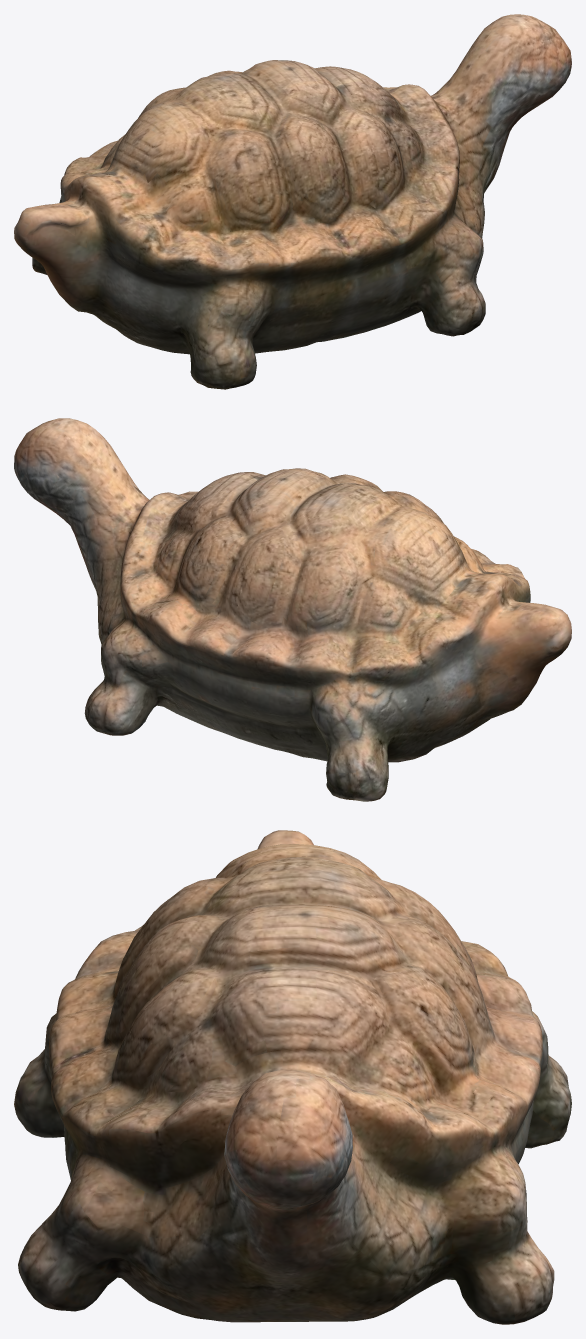
Rendered from turtle_garden_statue_841a39dd.fbx.
3 views of the same model, one above another, from view 1: azimuth 30°, elevation 25°; view 2: azimuth 150°, elevation 25°; view 3: azimuth 270°, elevation 25° (orthographic). The views are drawn at different scales.
Visible parts, largest first — view 1: turtle_garden_statue_841a39dd; view 2: turtle_garden_statue_841a39dd; view 3: turtle_garden_statue_841a39dd.
Boxes of the visible parts, x1,y1,x2,y2 form: turtle_garden_statue_841a39dd: (14, 14, 571, 389); turtle_garden_statue_841a39dd: (14, 418, 571, 801); turtle_garden_statue_841a39dd: (14, 830, 571, 1324).
Bounding box in the file's own units: 0.5546 × 0.2149 × 0.3311.
1 material, 1 textured.
